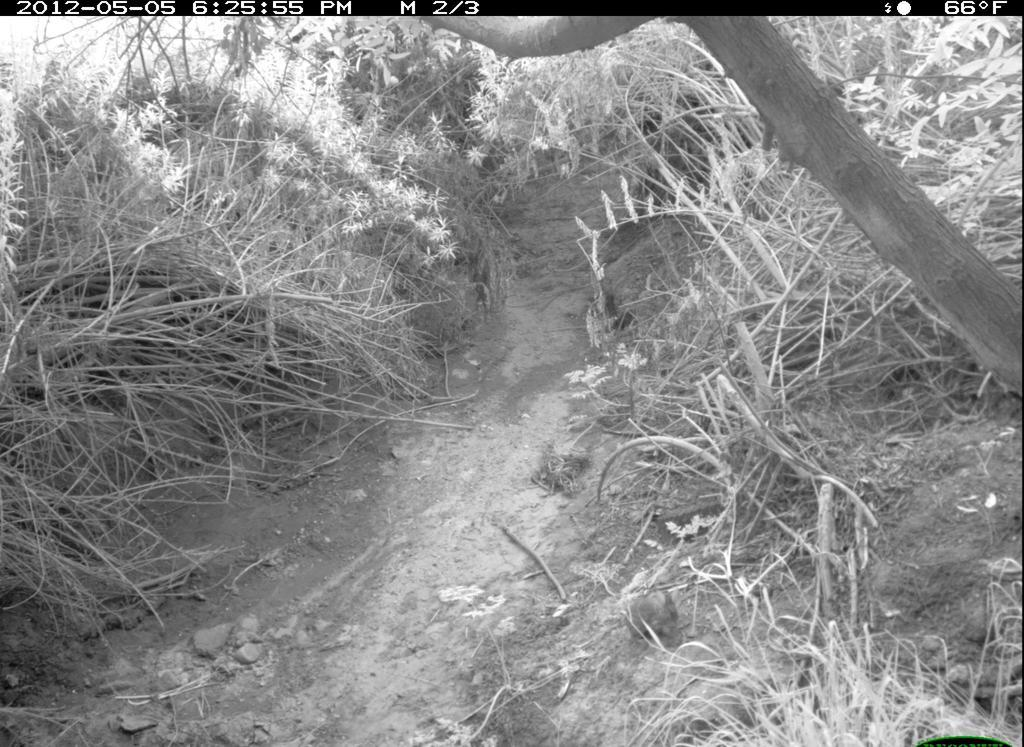rabbit: (619, 582, 687, 647)
